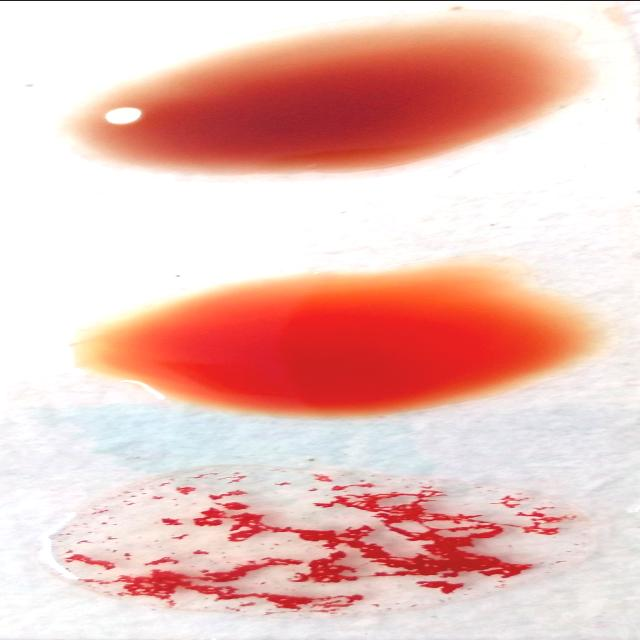D: (52, 471, 594, 614)
